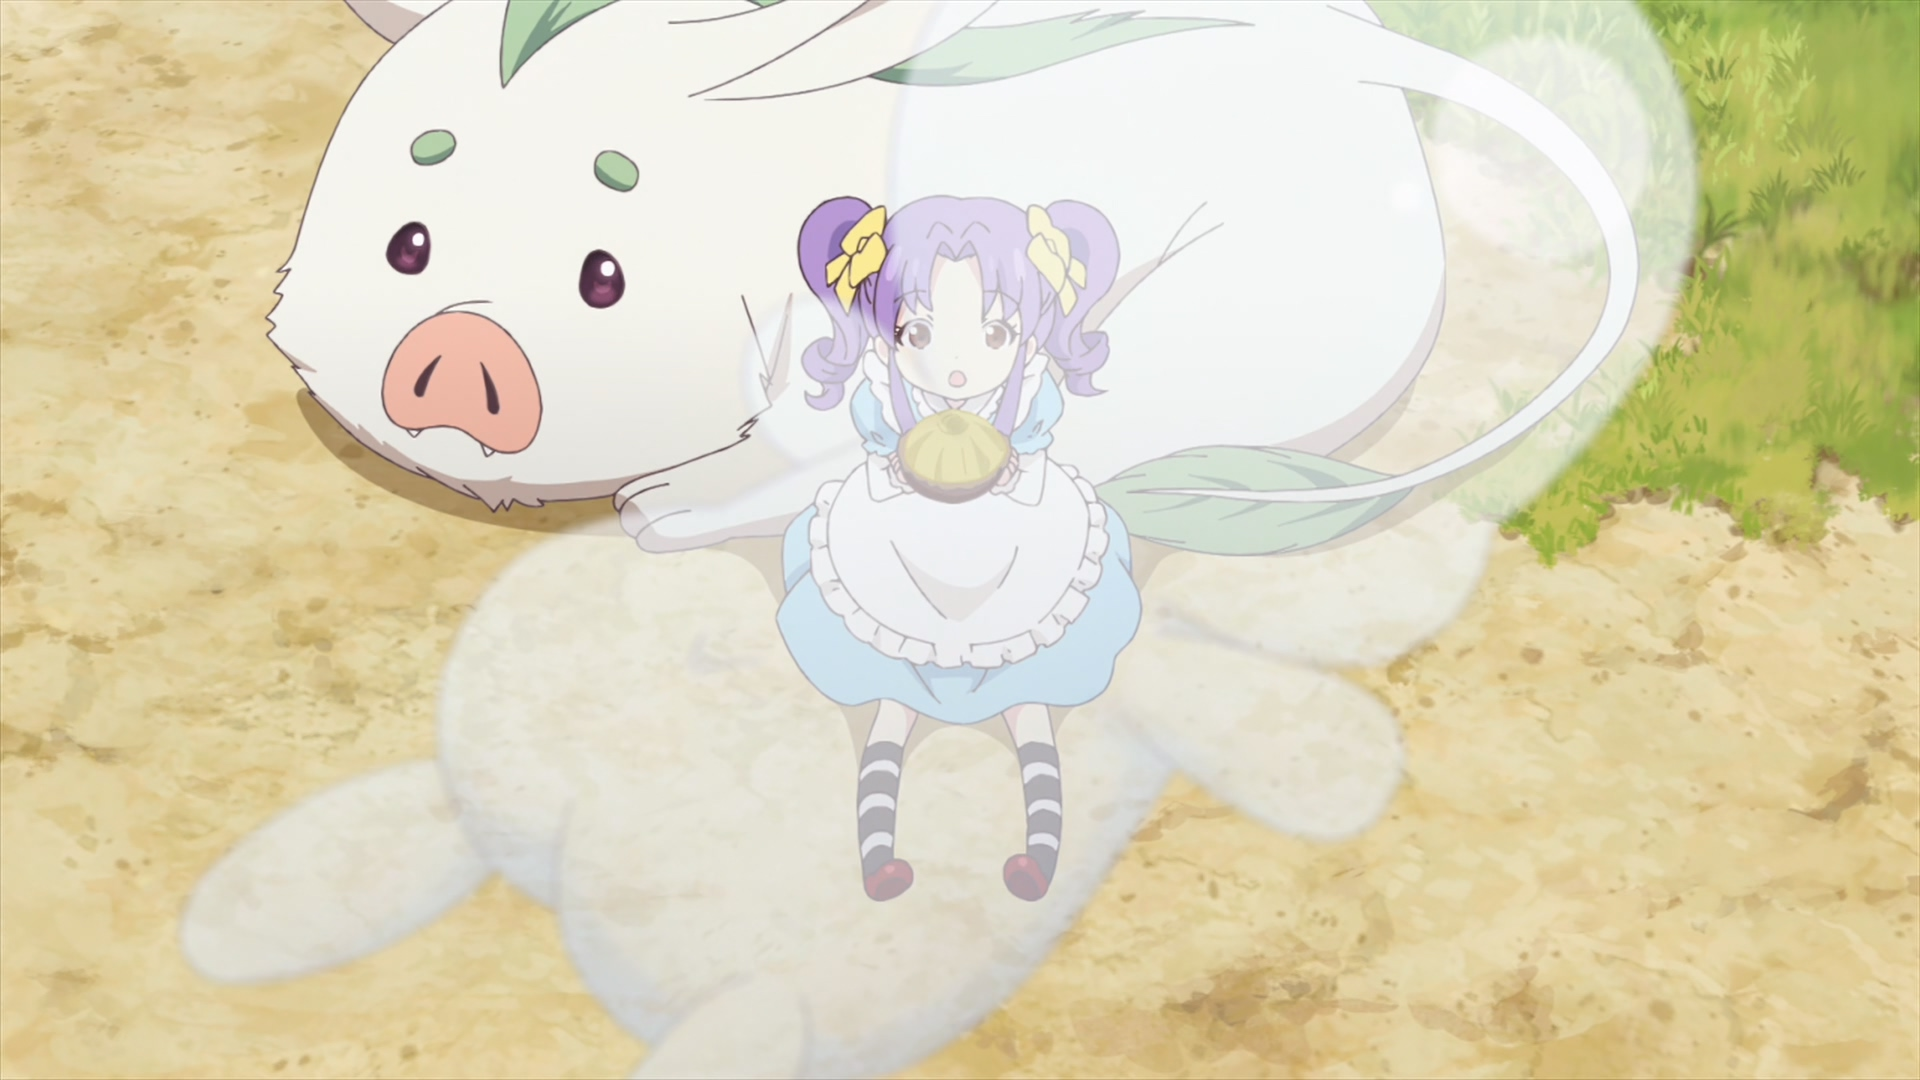瓜之介: (266, 1, 1640, 554)
阿菊: (775, 194, 1142, 905)
